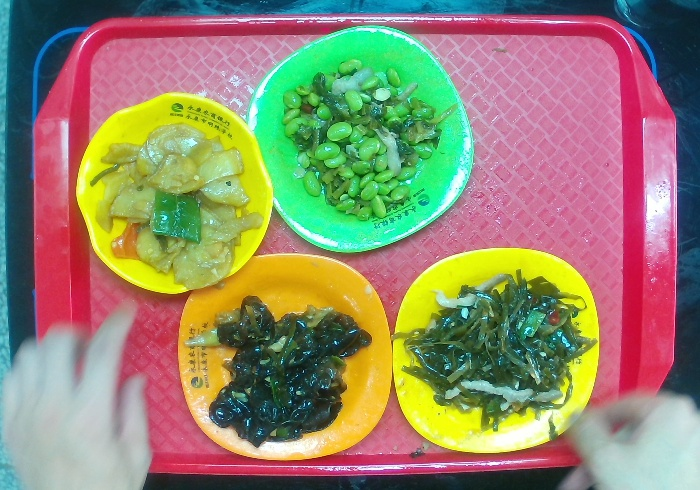YKMZ-Huang_Se_Ao_Bian_Wan: (71, 91, 274, 296)
YKMZ-Huang_Se_Fang_Die: (390, 247, 601, 456)
YKMZ-Ju_Se_Fang_Die: (175, 251, 395, 462)
YKMZ-Lv_Se_Fang_Die: (247, 24, 473, 255)
